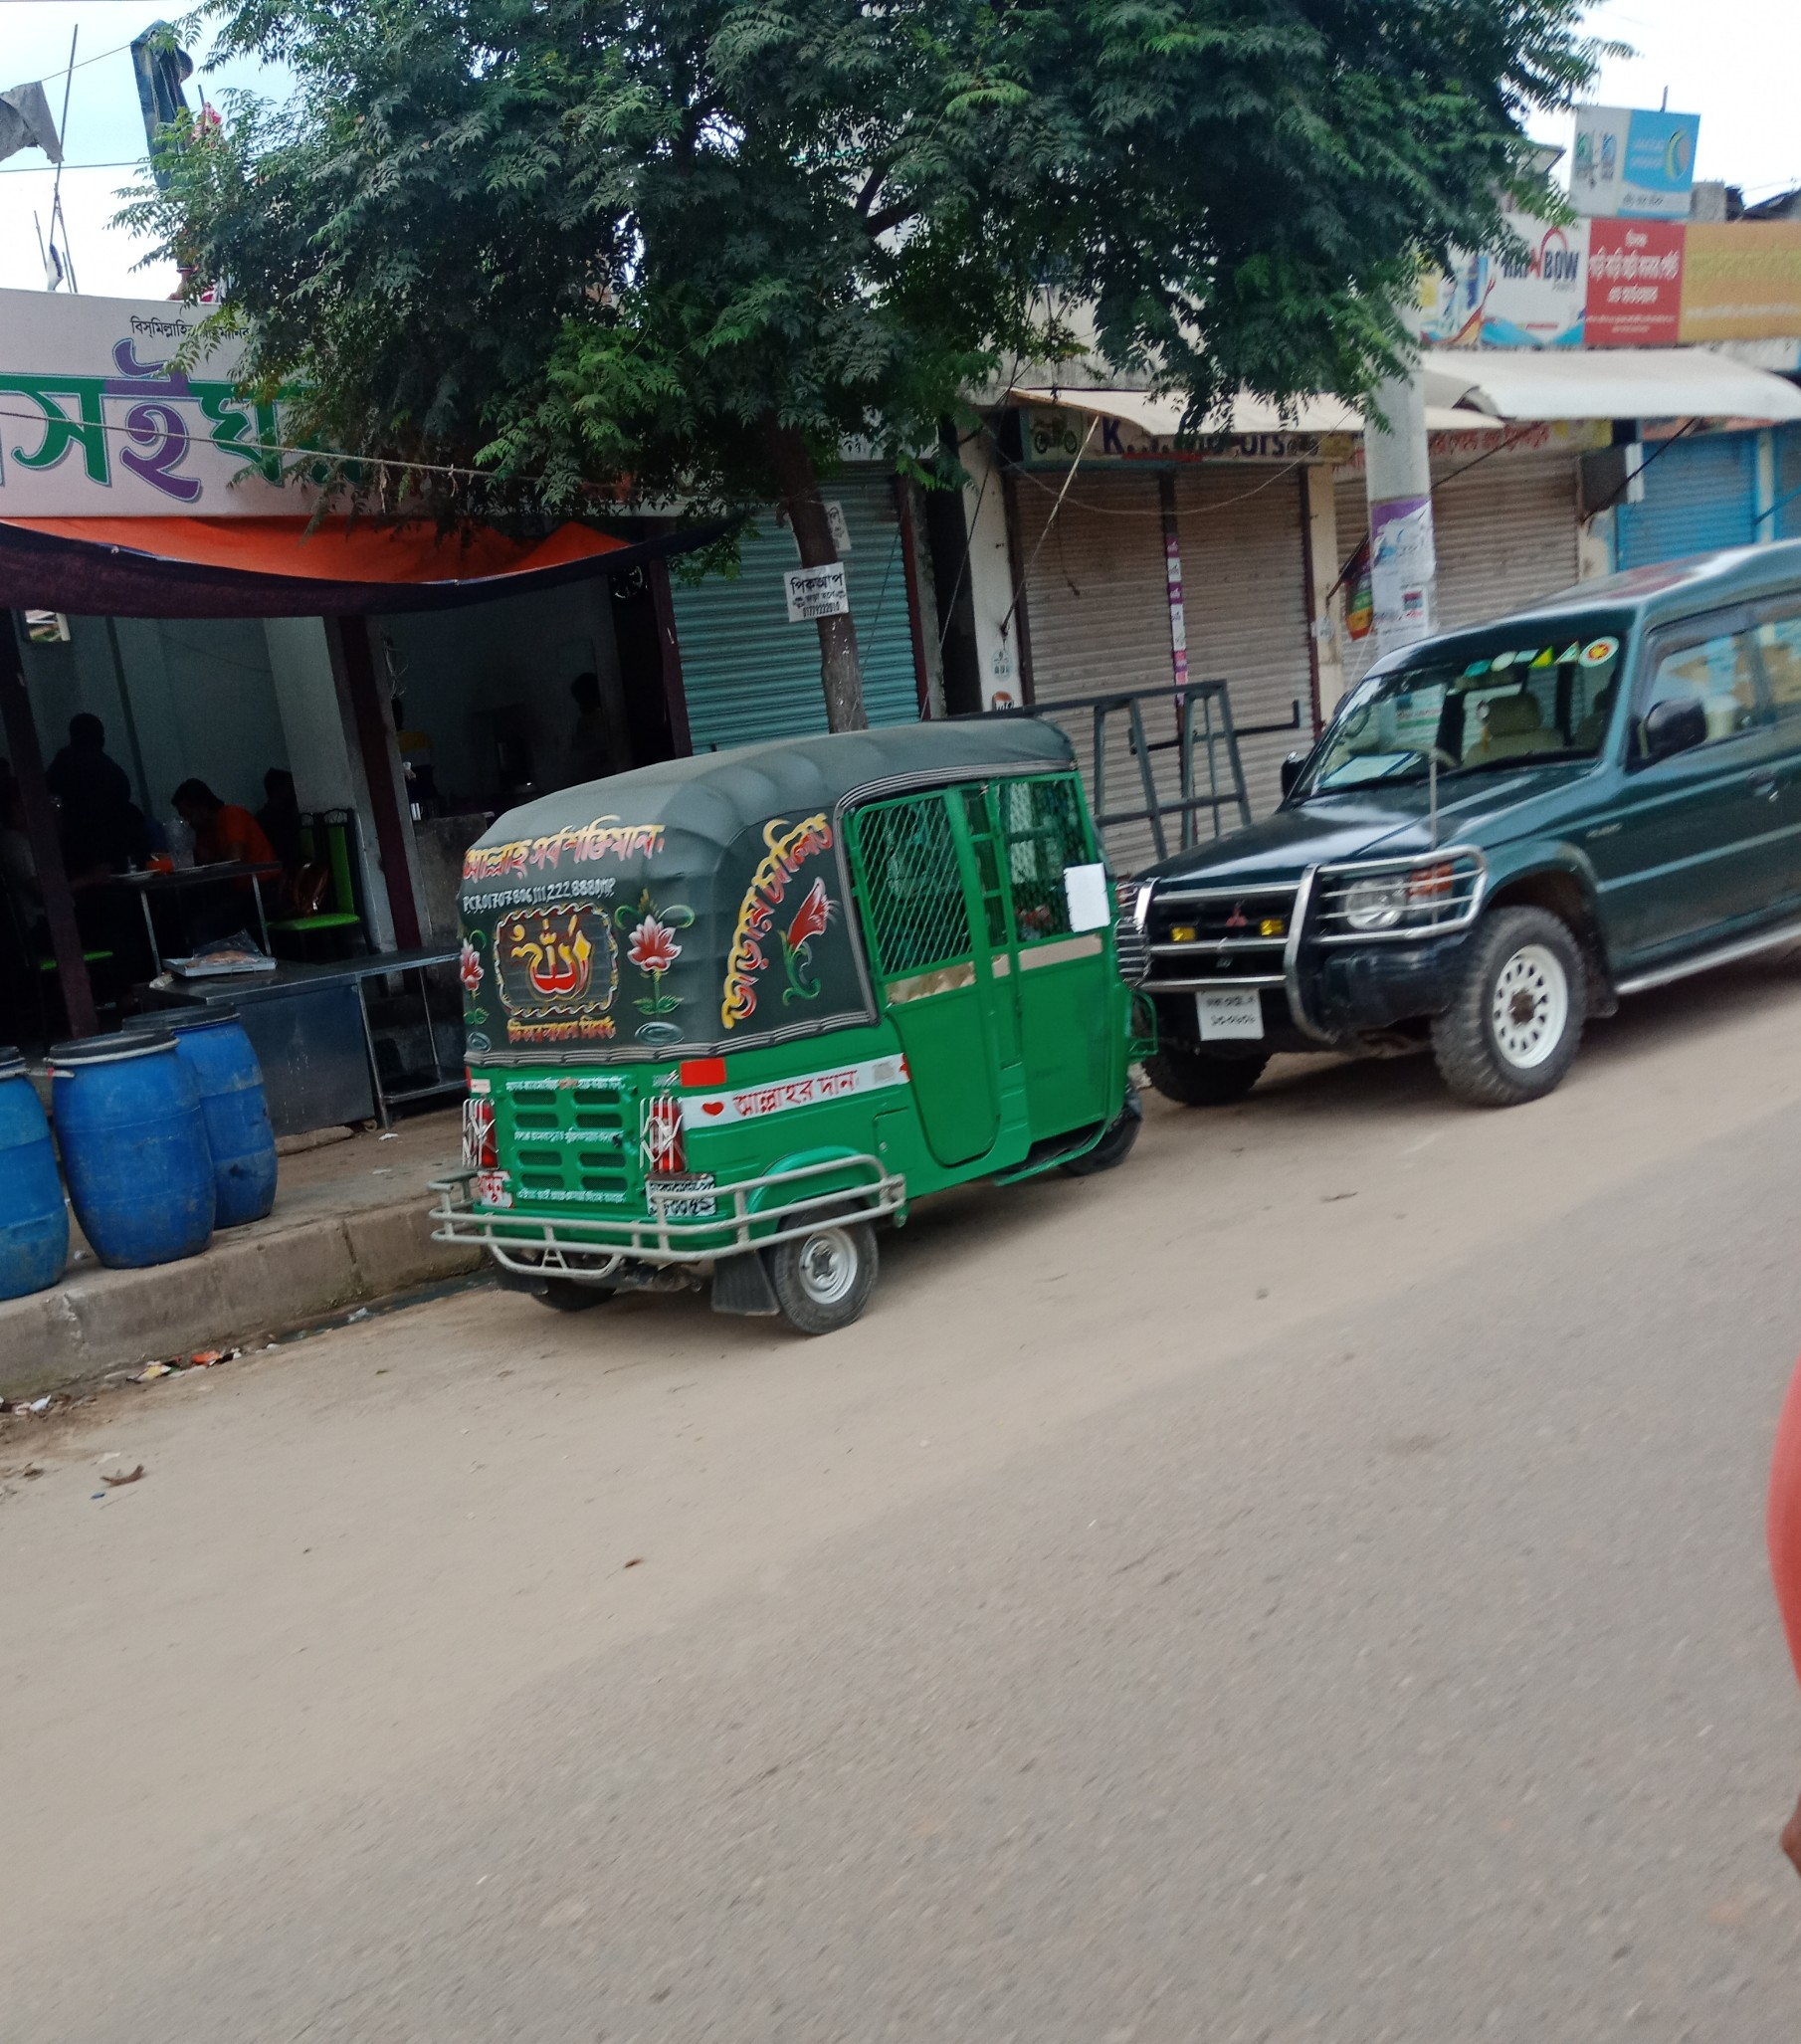car: (1106, 523, 1801, 1109)
cng: (409, 693, 1153, 1349)
